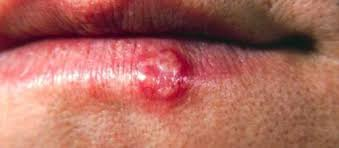herpes: (124, 49, 207, 110)
